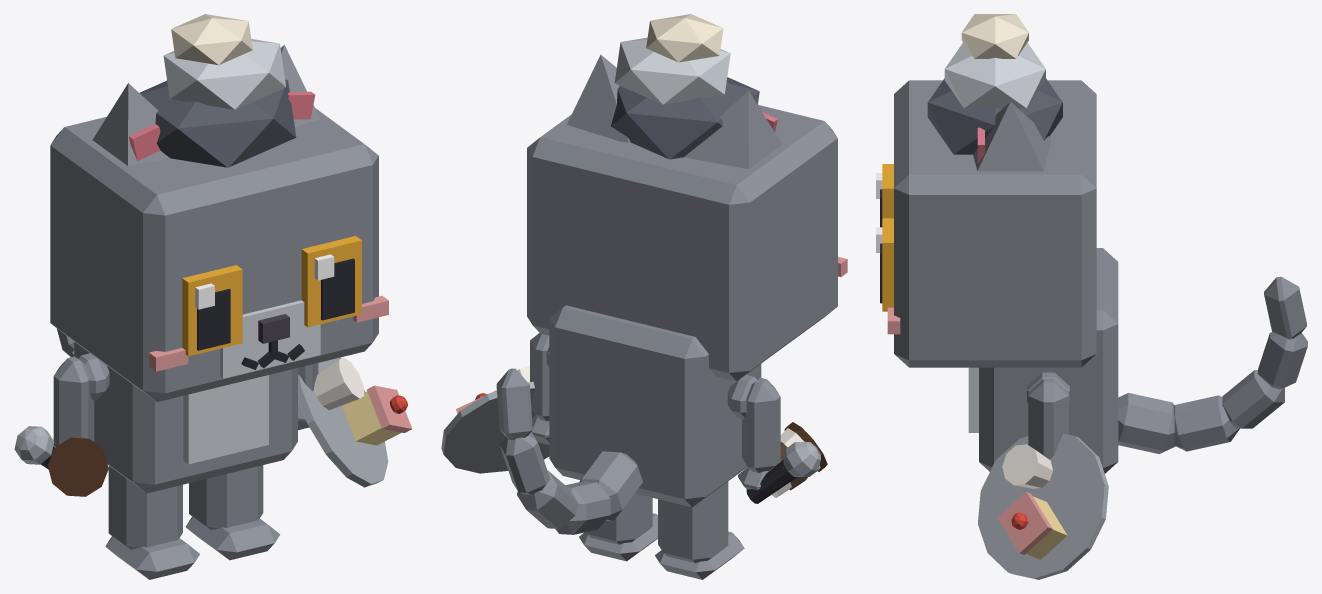
File: CatCafe_Cat_Pebble_Work.glb
The picture shows the model from 3 angles, left to right: view 1: azimuth 30°, elevation 25°; view 2: azimuth 150°, elevation 25°; view 3: azimuth 270°, elevation 25°; orthographic projection. The views are drawn at different scales.
Parts seen in each view (by area): view 1: CatCafe_Cat_Pebble_Work_Head, CatCafe_Cat_Pebble_Work_Body, CatCafe_Cat_Pebble_Work_Prop, CatCafe_Cat_Pebble_Work_Held_Waiter, CatCafe_Cat_Pebble_Work_LegB2, CatCafe_Cat_Pebble_Work_LegB1, CatCafe_Cat_Pebble_Work_Eye2, CatCafe_Cat_Pebble_Work_Eye1, CatCafe_Cat_Pebble_Work_EarR, CatCafe_Cat_Pebble_Work_LegF2, CatCafe_Cat_Pebble_Work_Held_Barista, CatCafe_Cat_Pebble_Work_EarL (+2 smaller); view 2: CatCafe_Cat_Pebble_Work_Head, CatCafe_Cat_Pebble_Work_Body, CatCafe_Cat_Pebble_Work_Prop, CatCafe_Cat_Pebble_Work_Tail, CatCafe_Cat_Pebble_Work_LegB2, CatCafe_Cat_Pebble_Work_Held_Waiter, CatCafe_Cat_Pebble_Work_EarR, CatCafe_Cat_Pebble_Work_LegF2, CatCafe_Cat_Pebble_Work_LegB1, CatCafe_Cat_Pebble_Work_EarL, CatCafe_Cat_Pebble_Work_Held_Entertainer, CatCafe_Cat_Pebble_Work_LegF1 (+1 smaller); view 3: CatCafe_Cat_Pebble_Work_Head, CatCafe_Cat_Pebble_Work_Held_Waiter, CatCafe_Cat_Pebble_Work_Body, CatCafe_Cat_Pebble_Work_Tail, CatCafe_Cat_Pebble_Work_Prop, CatCafe_Cat_Pebble_Work_EarL, CatCafe_Cat_Pebble_Work_LegF1, CatCafe_Cat_Pebble_Work_Eye1, CatCafe_Cat_Pebble_Work_Eye2.
Part boxes in pixels (left/top/right/bottom): CatCafe_Cat_Pebble_Work_Head: left=50, top=108, right=388, bottom=401; CatCafe_Cat_Pebble_Work_Body: left=74, top=342, right=297, bottom=493; CatCafe_Cat_Pebble_Work_Prop: left=139, top=14, right=296, bottom=167; CatCafe_Cat_Pebble_Work_Held_Waiter: left=298, top=357, right=412, bottom=487; CatCafe_Cat_Pebble_Work_LegB2: left=105, top=466, right=199, bottom=579; CatCafe_Cat_Pebble_Work_LegB1: left=185, top=465, right=280, bottom=560; CatCafe_Cat_Pebble_Work_Eye2: left=182, top=265, right=242, bottom=356; CatCafe_Cat_Pebble_Work_Eye1: left=301, top=236, right=361, bottom=327; CatCafe_Cat_Pebble_Work_EarR: left=92, top=83, right=169, bottom=165; CatCafe_Cat_Pebble_Work_LegF2: left=53, top=356, right=94, bottom=446; CatCafe_Cat_Pebble_Work_Held_Barista: left=47, top=437, right=108, bottom=496; CatCafe_Cat_Pebble_Work_EarL: left=280, top=45, right=319, bottom=126; CatCafe_Cat_Pebble_Work_Head: left=527, top=105, right=847, bottom=381; CatCafe_Cat_Pebble_Work_Body: left=546, top=305, right=761, bottom=507; CatCafe_Cat_Pebble_Work_Prop: left=610, top=14, right=759, bottom=159; CatCafe_Cat_Pebble_Work_Tail: left=496, top=368, right=642, bottom=534; CatCafe_Cat_Pebble_Work_LegB2: left=655, top=481, right=744, bottom=579; CatCafe_Cat_Pebble_Work_Held_Waiter: left=441, top=366, right=549, bottom=473; CatCafe_Cat_Pebble_Work_EarR: left=684, top=91, right=782, bottom=169; CatCafe_Cat_Pebble_Work_LegF2: left=738, top=378, right=780, bottom=489; CatCafe_Cat_Pebble_Work_LegB1: left=579, top=493, right=657, bottom=561; CatCafe_Cat_Pebble_Work_EarL: left=567, top=54, right=629, bottom=142; CatCafe_Cat_Pebble_Work_Held_Entertainer: left=746, top=442, right=820, bottom=503; CatCafe_Cat_Pebble_Work_LegF1: left=530, top=333, right=549, bottom=444; CatCafe_Cat_Pebble_Work_Head: left=887, top=80, right=1096, bottom=367; CatCafe_Cat_Pebble_Work_Held_Waiter: left=978, top=433, right=1108, bottom=579; CatCafe_Cat_Pebble_Work_Body: left=968, top=248, right=1118, bottom=473; CatCafe_Cat_Pebble_Work_Tail: left=1118, top=276, right=1307, bottom=453; CatCafe_Cat_Pebble_Work_Prop: left=927, top=14, right=1062, bottom=154; CatCafe_Cat_Pebble_Work_EarL: left=973, top=102, right=1050, bottom=171; CatCafe_Cat_Pebble_Work_LegF1: left=1028, top=379, right=1068, bottom=459; CatCafe_Cat_Pebble_Work_Eye1: left=876, top=218, right=893, bottom=311; CatCafe_Cat_Pebble_Work_Eye2: left=876, top=164, right=893, bottom=227.
Size of the model in its own units: 1.53 by 2.13 by 1.62.
Materials: 1 (1 with a texture image).
